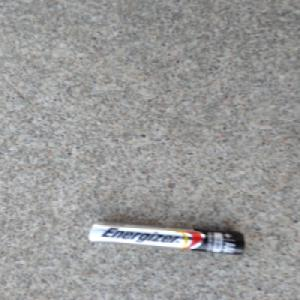Battery: (85, 219, 248, 257)
